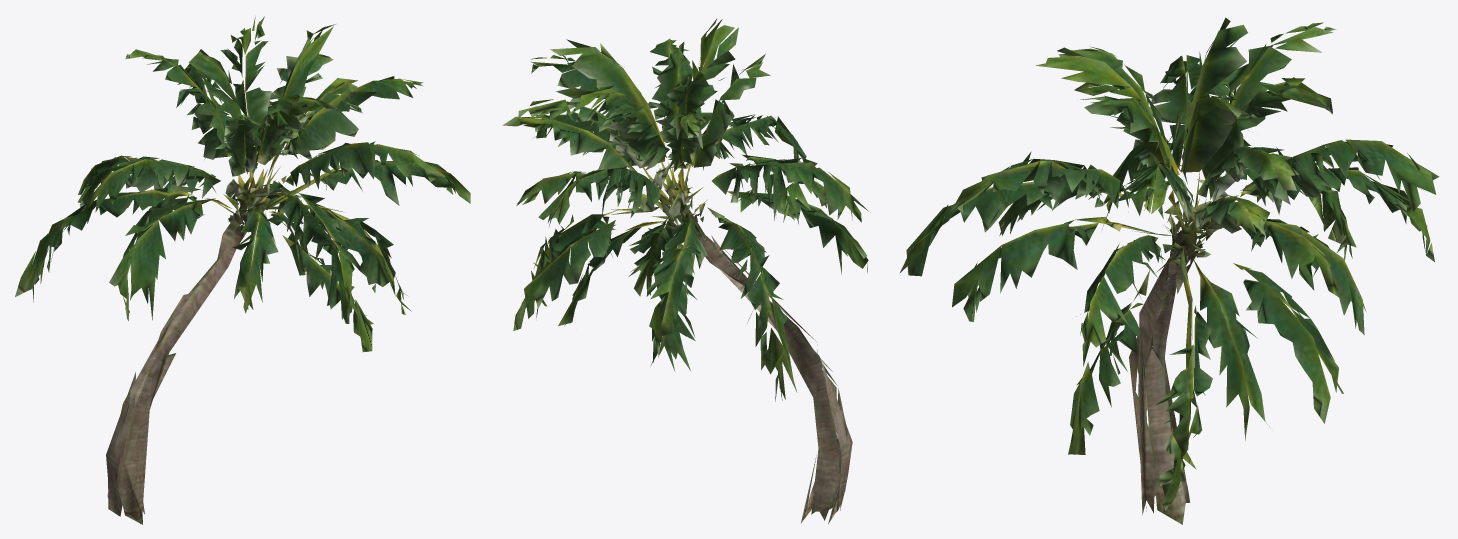
The model's file is kueste_palme.glb.
The picture shows the model from 3 angles, left to right: view 1: azimuth 30°, elevation 25°; view 2: azimuth 150°, elevation 25°; view 3: azimuth 270°, elevation 25°; orthographic projection. The views are drawn at different scales.
Parts seen in each view (by area): view 1: Prop; view 2: Prop; view 3: Prop.
Boxes of the visible parts, x1=… form: Prop: x1=15, y1=16, x2=470, y2=524; Prop: x1=502, y1=18, x2=870, y2=523; Prop: x1=900, y1=17, x2=1439, y2=524.
Bounding box in the file's own units: 0.8632 × 0.9918 × 0.8703.
1 material, 1 textured.
